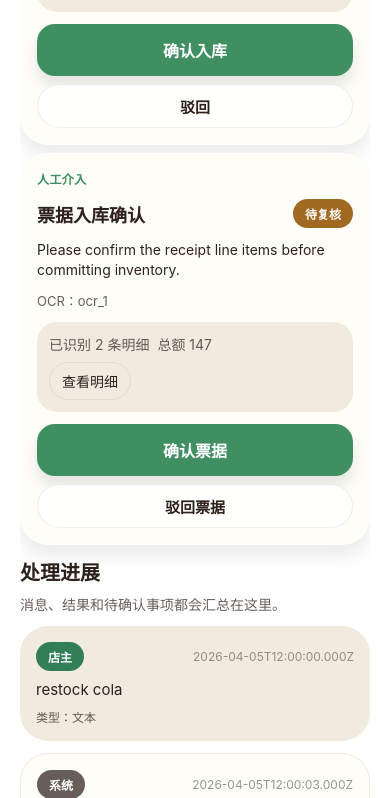
Test: ChatScreen › renders a pending receipt confirmation card and approves edited line items from chat
The width and height of the screenshot is (390, 798).
(page scrolled)
Expected: the text "票据入库确认" is shown, [37,200,153,226]
Click the button labelled "查看明细" at (90, 381), box [49,362,131,400]
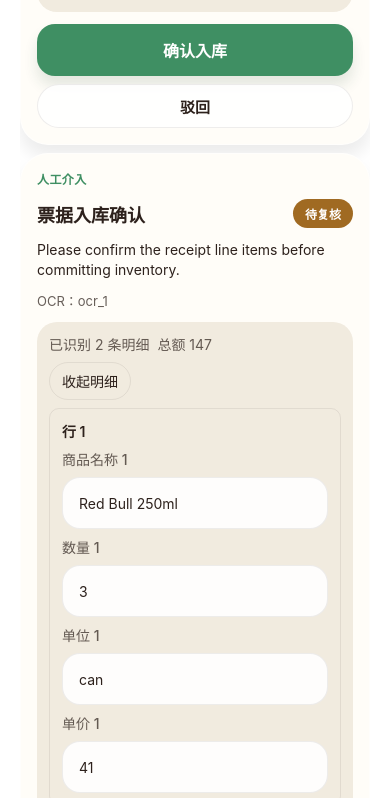
Expected: the field showing "Red Bull 250ml" is shown, [62,477,328,529]
Replace the text in the field with placeholder "数量 1" with "4" at (195, 591), box [62,565,328,617]
(page scrolled)
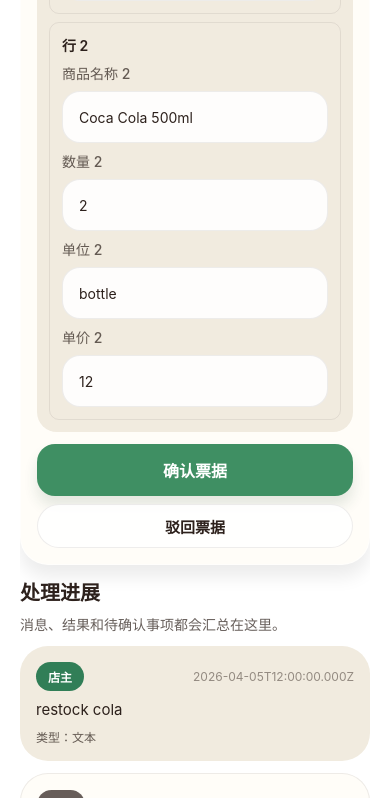
Replace the text in the field with placeholder "单价 2" with "13" at (195, 381), box [62,355,328,407]
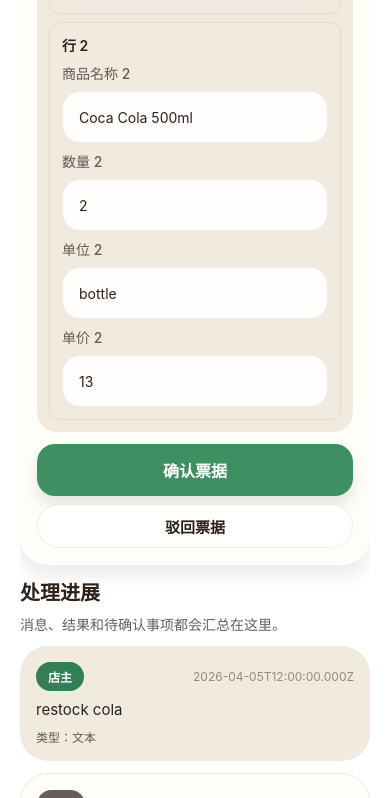
Click the button with test id "confirm-approve-conf_receipt_1" at (195, 470), box [37,444,353,496]
(page scrolled)
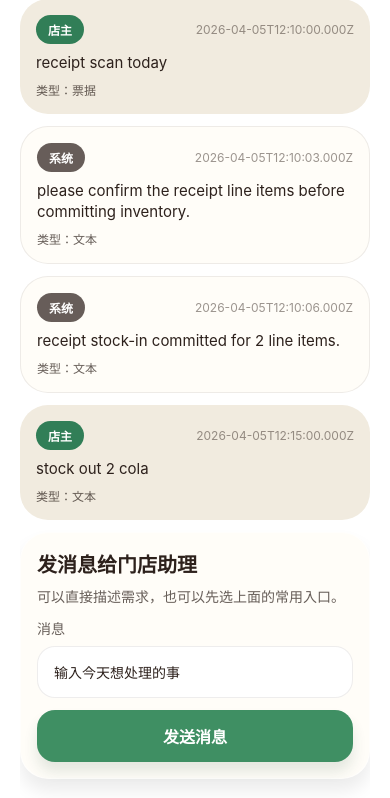
Expected: the text "receipt stock-in committed for 2 line items." is shown, [37,330,353,351]
